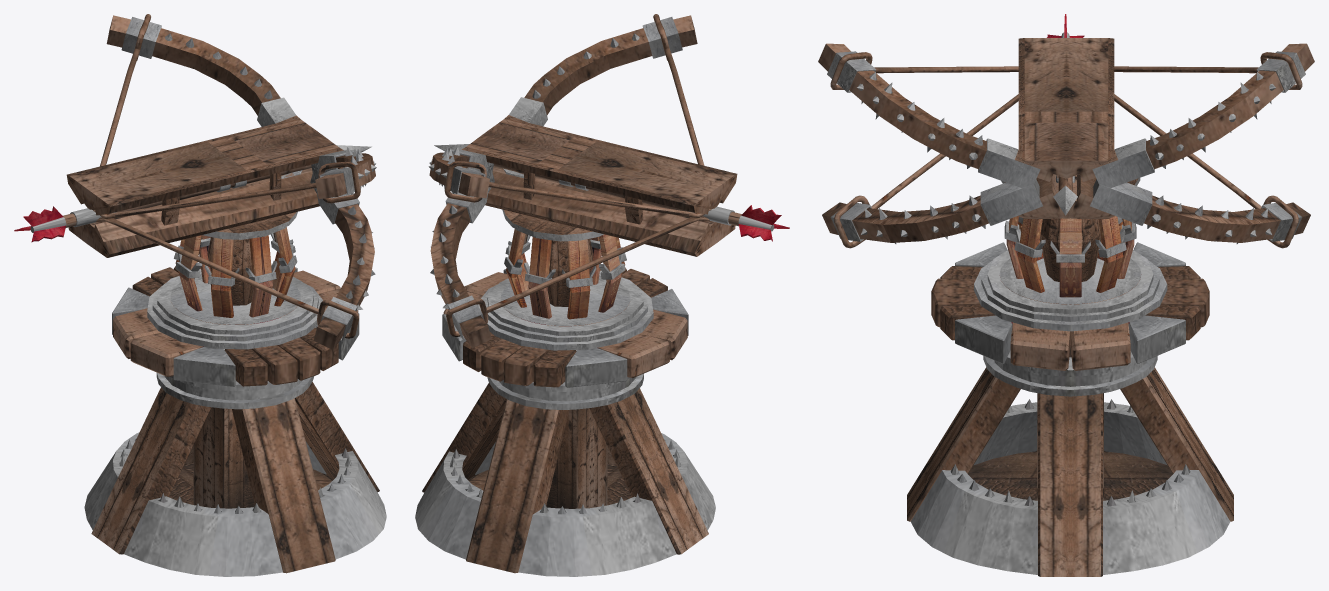
Rendered from XbowUpgrade2.fbx.
The picture shows the model from 3 angles, left to right: view 1: azimuth 30°, elevation 25°; view 2: azimuth 150°, elevation 25°; view 3: azimuth 270°, elevation 25°; orthographic projection. The views are drawn at different scales.
Parts seen in each view (by area): view 1: Base_Foundation_Xbow, Turret_Xbow, Turret_Foundation_Xbow, Arrow; view 2: Base_Foundation_Xbow, Turret_Xbow, Turret_Foundation_Xbow, Arrow; view 3: Base_Foundation_Xbow, Turret_Xbow, Turret_Foundation_Xbow, Arrow.
Part boxes in pixels (box(x1,y1,x2,y2)): Base_Foundation_Xbow: box(84, 265, 386, 576); Turret_Xbow: box(66, 14, 376, 349); Turret_Foundation_Xbow: box(170, 211, 300, 324); Arrow: box(14, 145, 371, 242); Base_Foundation_Xbow: box(415, 266, 715, 576); Turret_Xbow: box(428, 14, 737, 348); Turret_Foundation_Xbow: box(500, 209, 630, 326); Arrow: box(434, 144, 789, 241); Base_Foundation_Xbow: box(907, 242, 1233, 576); Turret_Xbow: box(818, 38, 1314, 248); Turret_Foundation_Xbow: box(999, 178, 1141, 304); Arrow: box(1047, 14, 1084, 215).
Size of the model in its own units: 263 by 304 by 298.
